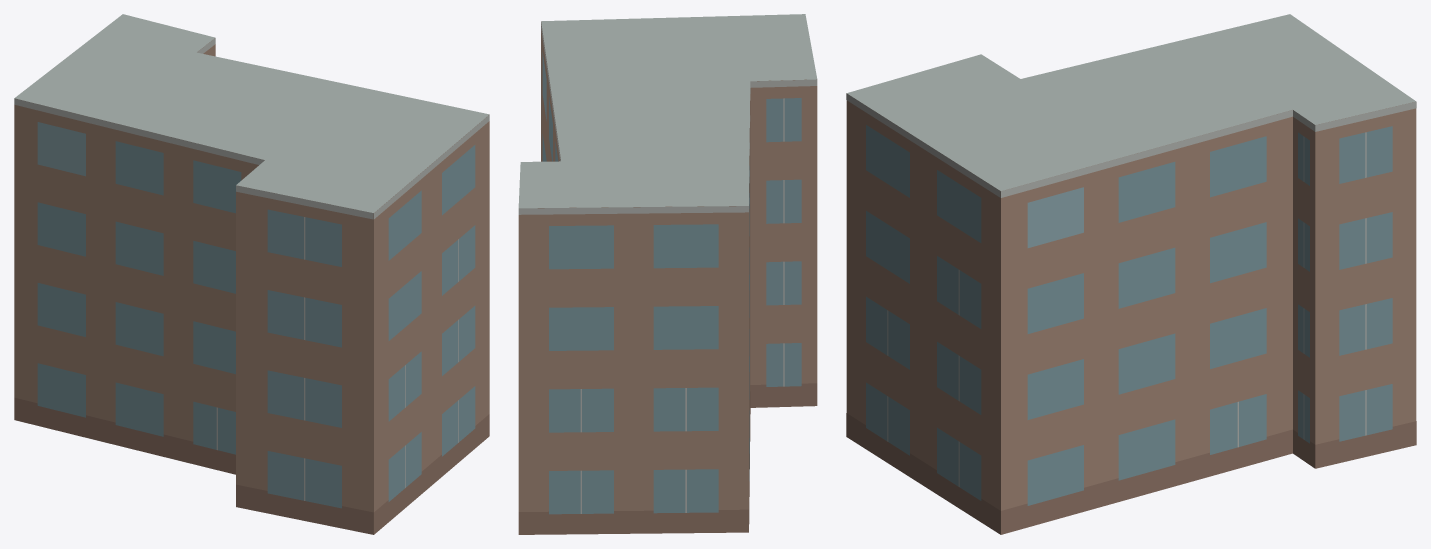
File: survey-upis-33000095.glb
The picture shows the model from 3 angles, left to right: view 1: azimuth 30°, elevation 25°; view 2: azimuth 150°, elevation 25°; view 3: azimuth 270°, elevation 25°; orthographic projection. The views are drawn at different scales.
Parts seen in each view (by area): view 1: survey-upis-33000095.tmp; view 2: survey-upis-33000095.tmp; view 3: survey-upis-33000095.tmp.
Boxes of the visible parts, bbox=[...] form: survey-upis-33000095.tmp: bbox=[14, 14, 489, 534]; survey-upis-33000095.tmp: bbox=[518, 14, 817, 534]; survey-upis-33000095.tmp: bbox=[846, 14, 1416, 534].
Size of the model in its own units: 13.5 by 12.2 by 18.35.
